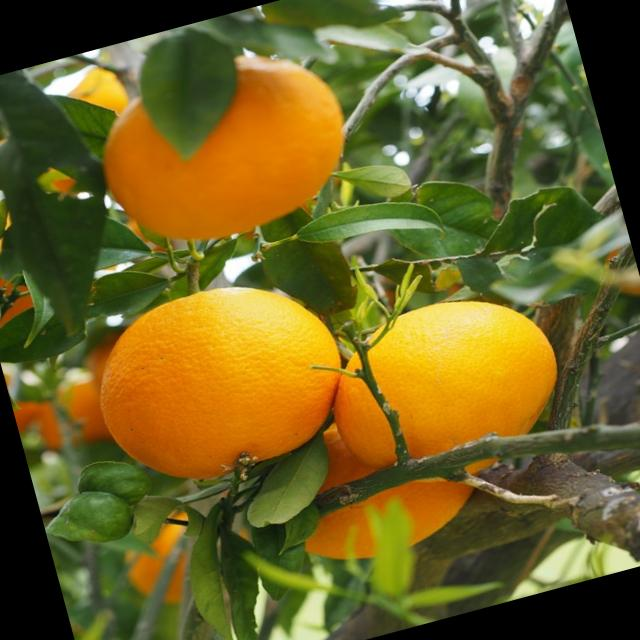orange: (83, 260, 372, 510), (304, 273, 593, 509), (82, 39, 369, 272), (250, 369, 520, 577)
